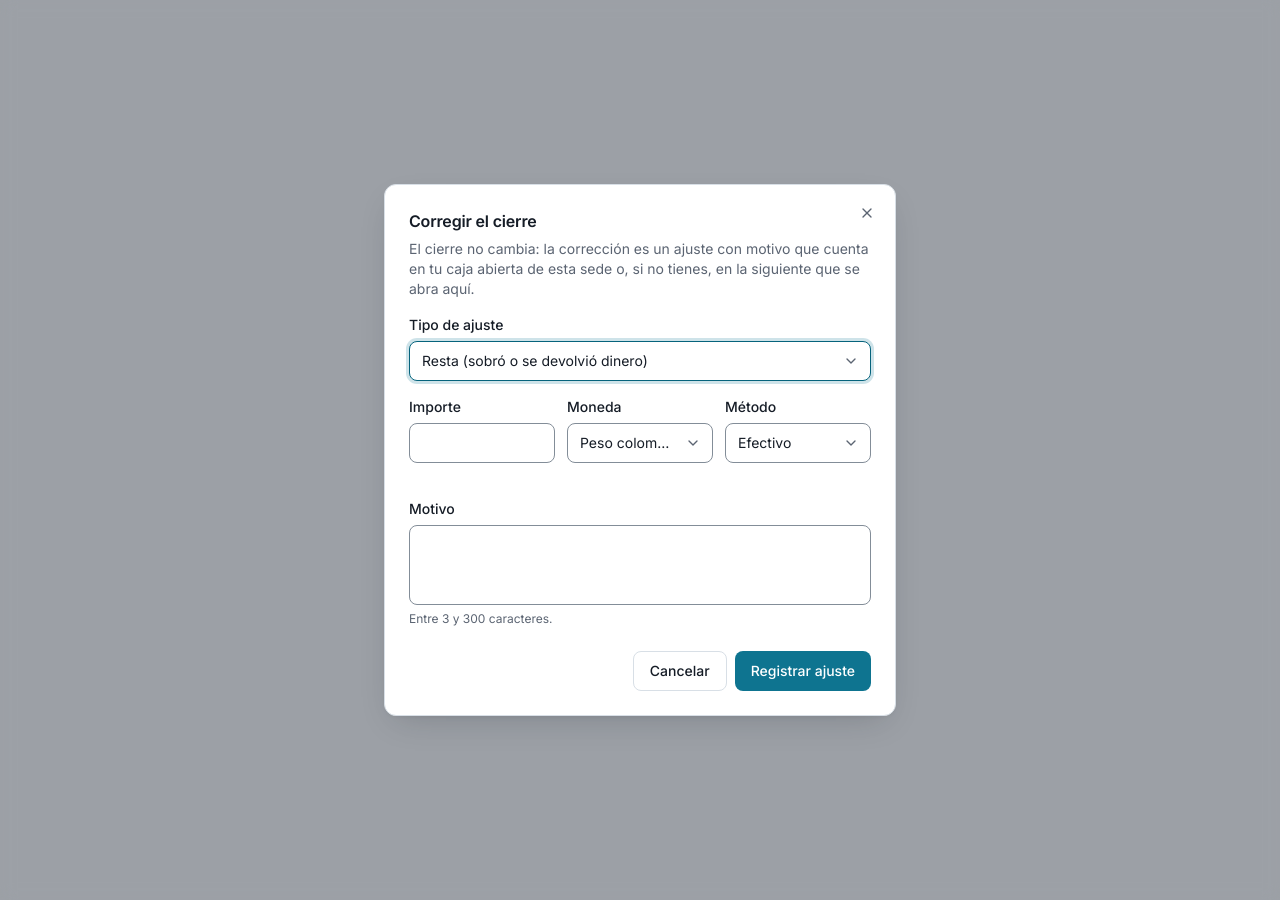
Test: CashAdjustmentModal (DX-027, DX-252) › el error de la API sale en español: el de negocio tal cual y el técnico en inglés traducido
This screenshot has width=1280, height=900.
Type "1000" into the field labelled "Importe". click: (482, 443)
box: x1=409 y1=423 x2=555 y2=463
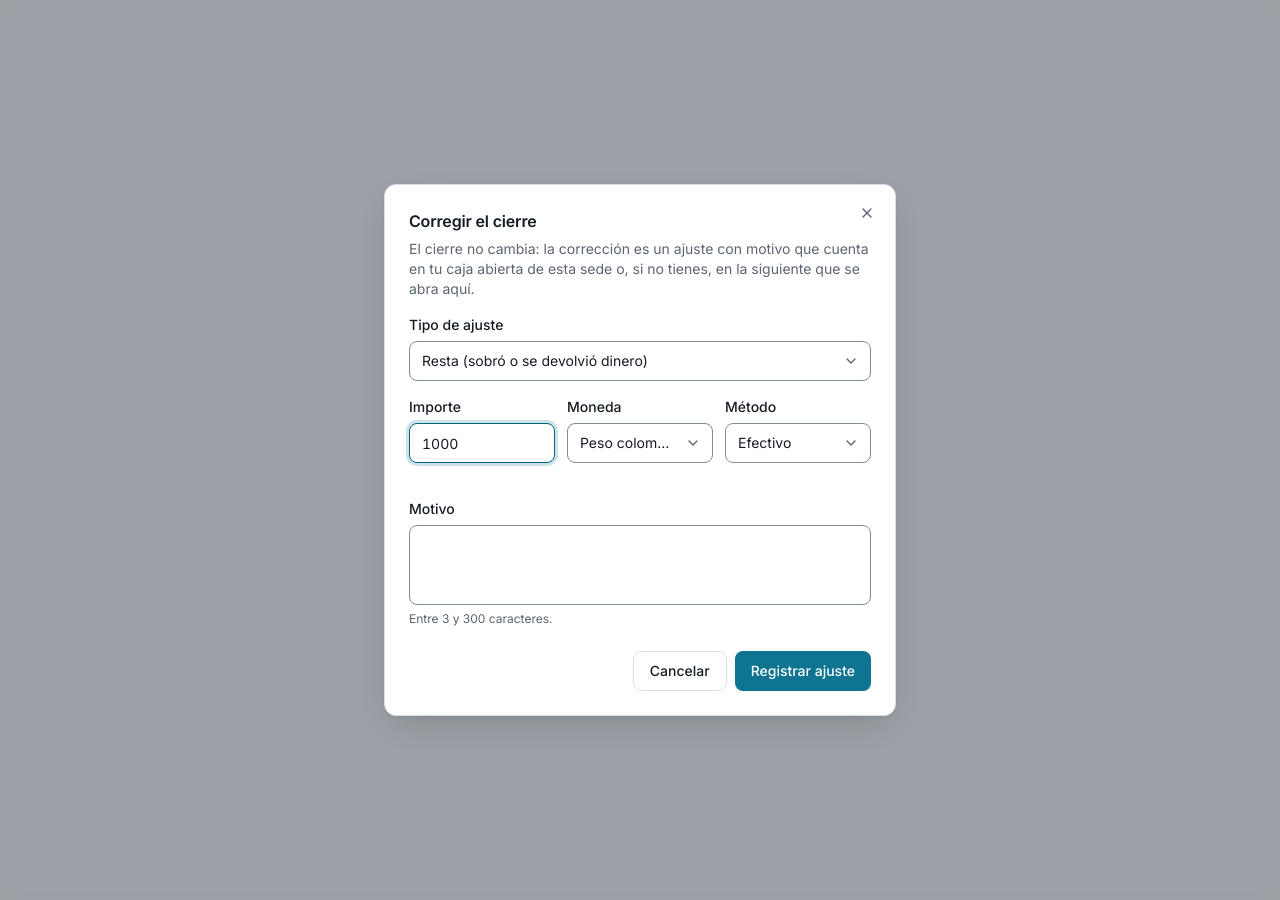
Type "Sobró cambio" into the text box labelled "Motivo". click: (640, 565)
box: x1=409 y1=525 x2=871 y2=605
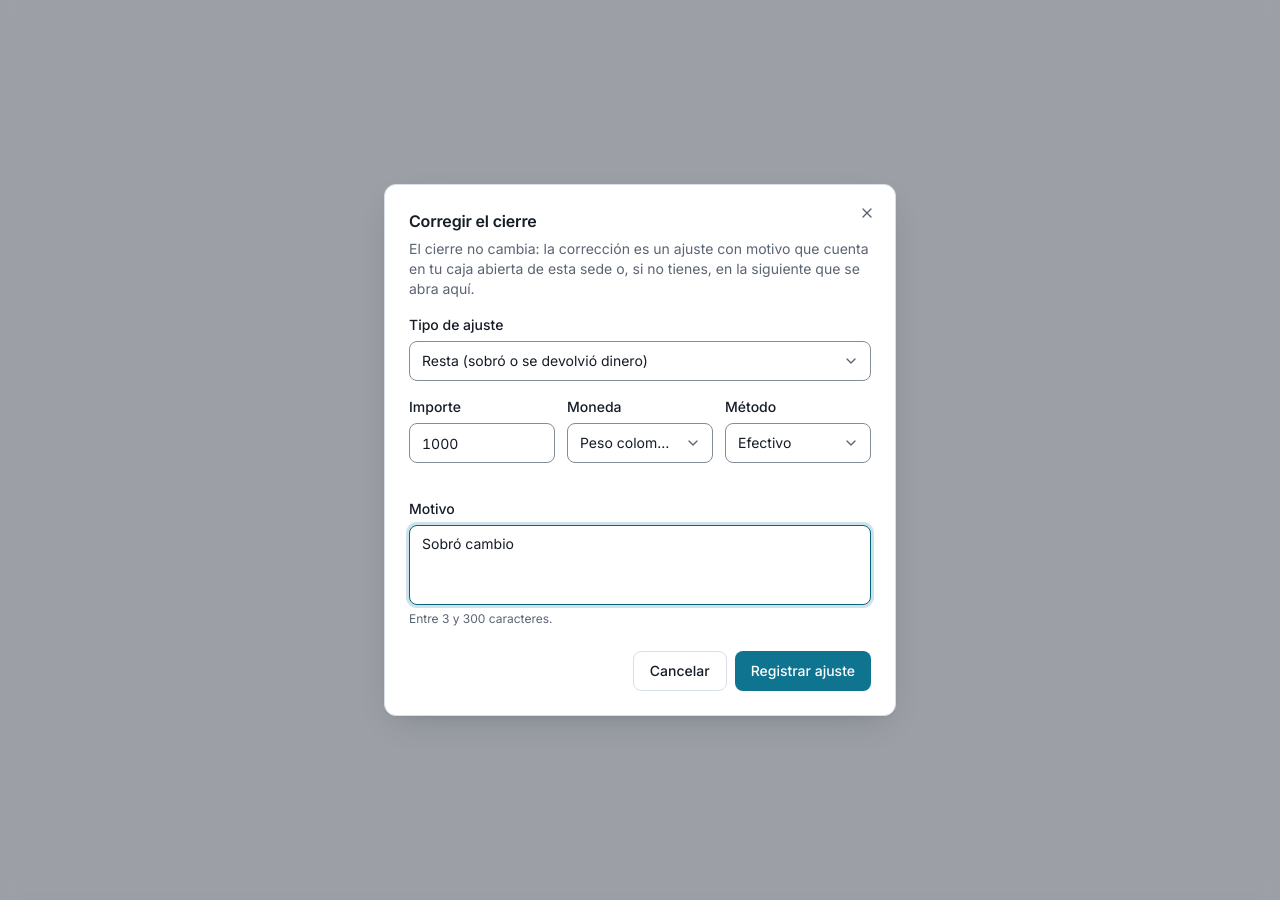
Click the button "Registrar ajuste". click: (803, 671)
box: x1=735 y1=651 x2=871 y2=691
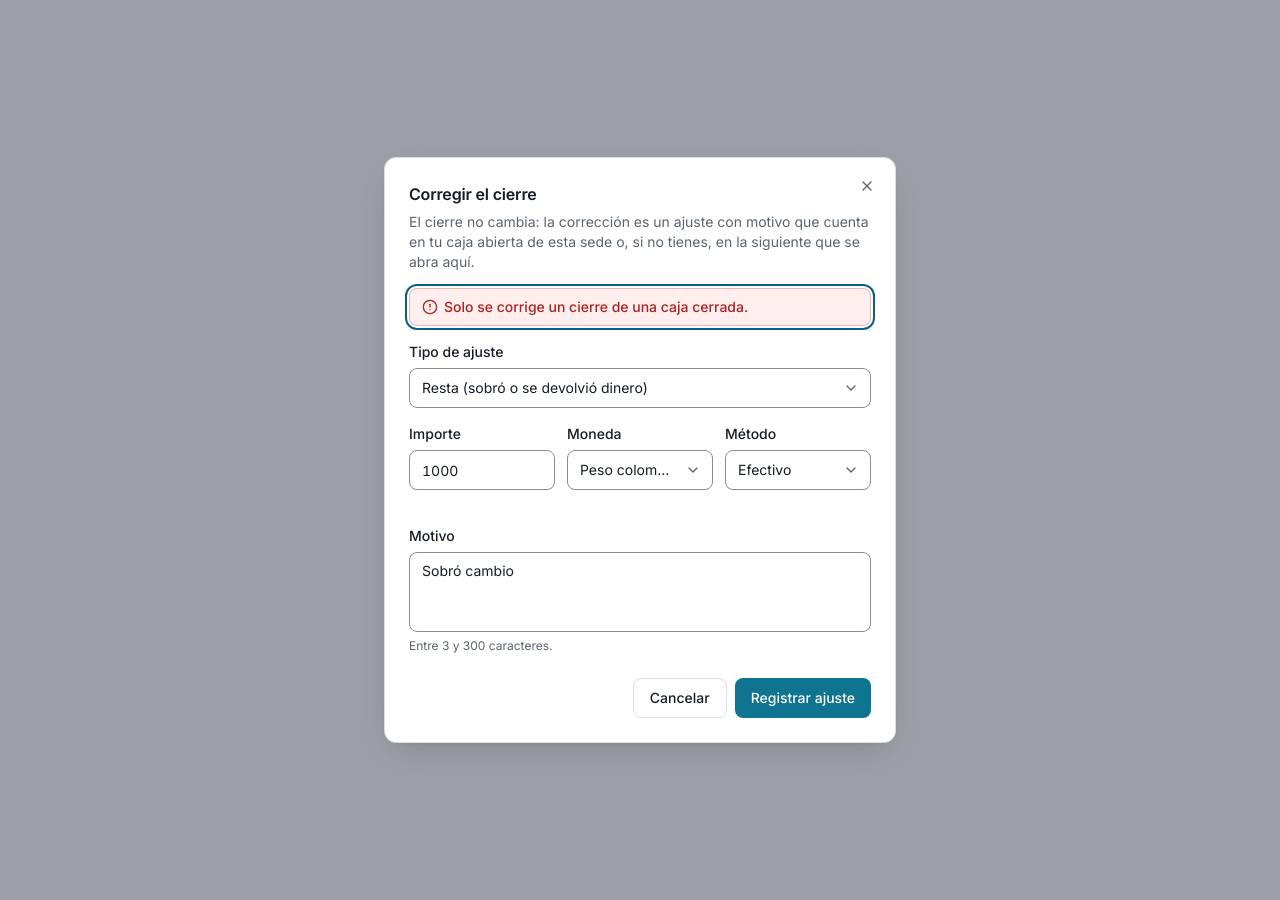
expect the text "Solo se corrige un cierre de una caja cerrada." is shown: met, box x1=444 y1=297 x2=748 y2=317
Click the button "Registrar ajuste". click: (803, 698)
box: x1=735 y1=678 x2=871 y2=718
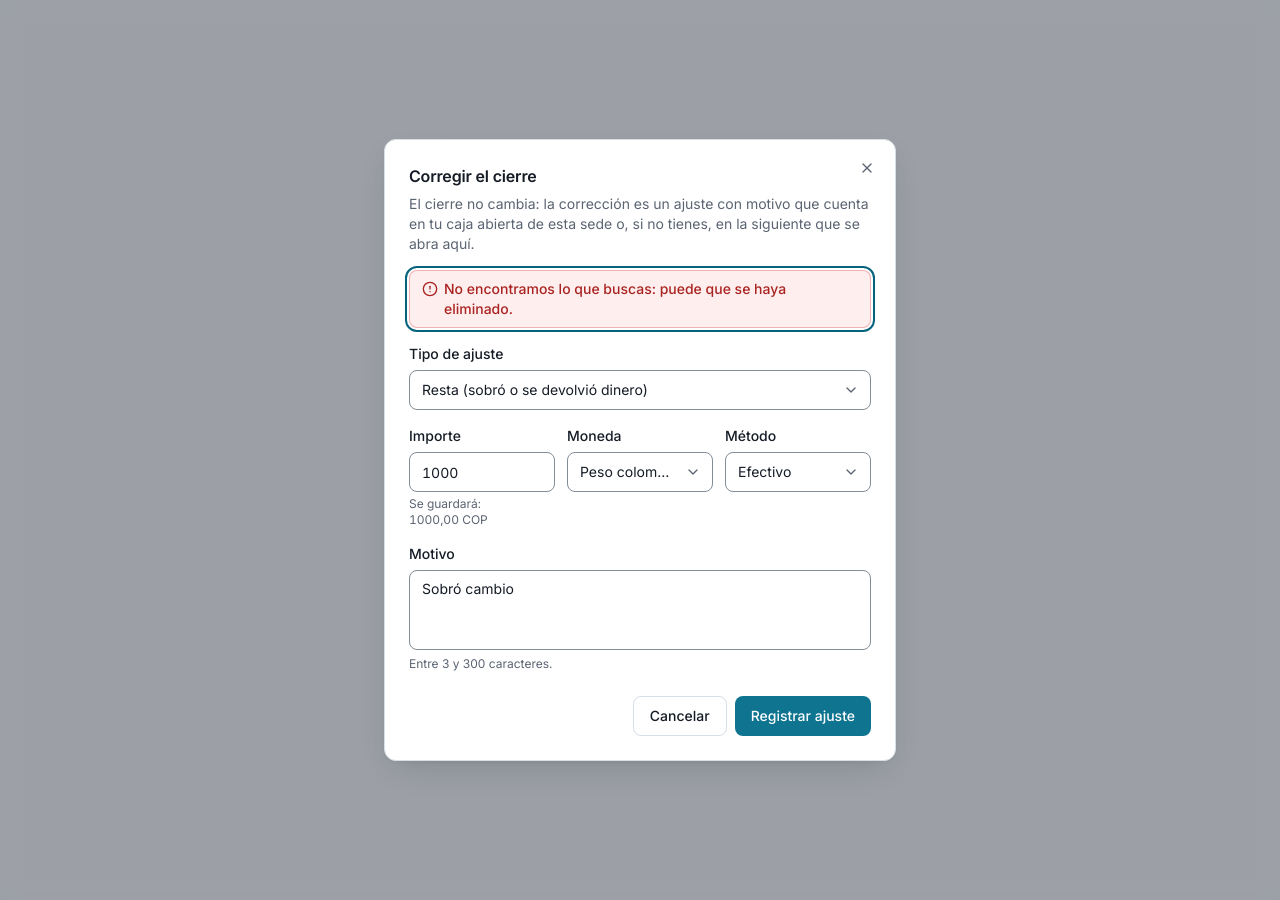
expect the text "No encontramos lo que buscas: puede que se haya eliminado." is shown: met, box x1=444 y1=280 x2=786 y2=317
Click the button "Registrar ajuste". click: (803, 716)
box: x1=735 y1=696 x2=871 y2=736
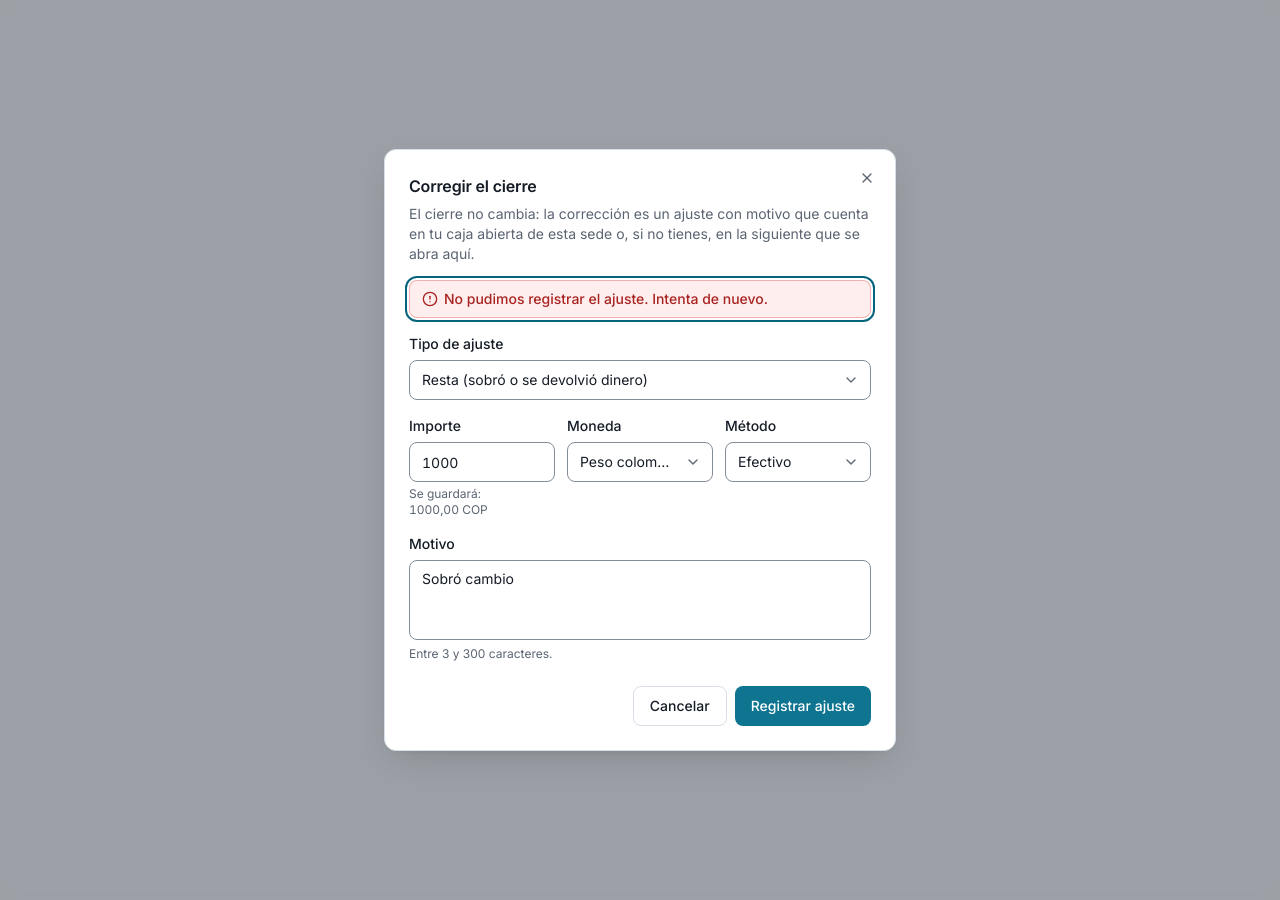
expect the text "No pudimos registrar el ajuste. Intenta de nuevo." is shown: met, box x1=444 y1=289 x2=768 y2=309
